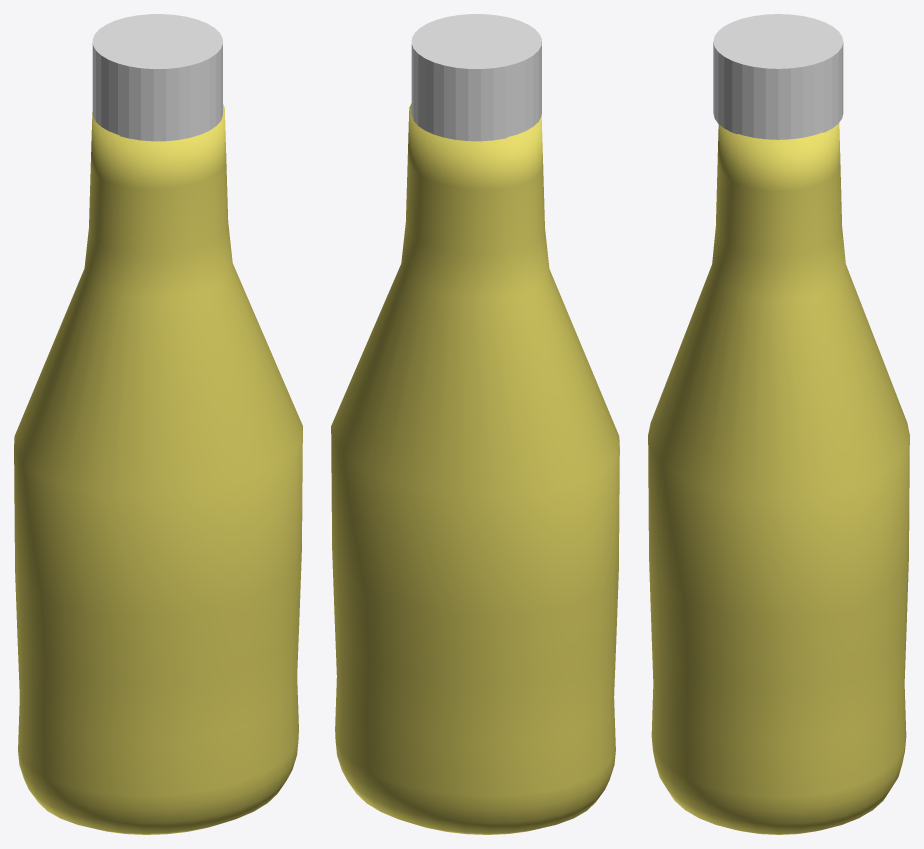
Rendered from mazik.fbx.
3 views of the same model, side by side, from view 1: azimuth 30°, elevation 25°; view 2: azimuth 150°, elevation 25°; view 3: azimuth 270°, elevation 25° (orthographic).
Visible parts, largest first — view 1: Cylinder.044, Cylinder.046; view 2: Cylinder.044, Cylinder.046; view 3: Cylinder.044, Cylinder.046.
Boxes of the visible parts, <box> form: Cylinder.044: <box>14,104,302,834</box>; Cylinder.046: <box>92,14,222,141</box>; Cylinder.044: <box>331,103,619,834</box>; Cylinder.046: <box>411,14,541,141</box>; Cylinder.044: <box>648,123,909,834</box>; Cylinder.046: <box>713,14,843,139</box>.
Bounding box in the file's own units: 332 × 933 × 293.
